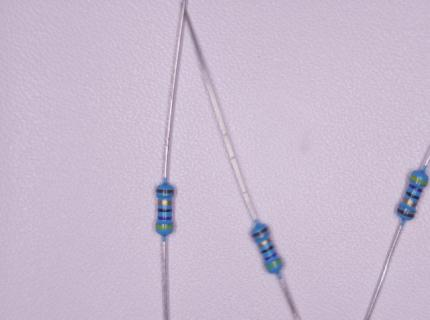Gold band: (402, 198, 417, 208), (258, 238, 272, 247), (158, 200, 172, 205)
Violet band: (408, 183, 423, 193), (264, 252, 277, 261), (157, 216, 172, 220)
Yellow band: (410, 174, 428, 186), (265, 259, 282, 270), (155, 225, 173, 230)
